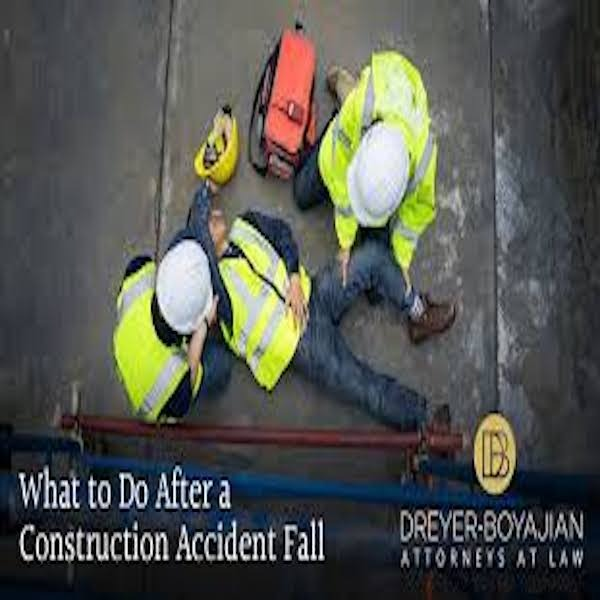helmet: (350, 123, 413, 226), (161, 236, 215, 327), (198, 110, 245, 184)
vest: (331, 60, 435, 249), (226, 209, 305, 381), (114, 282, 185, 395)
